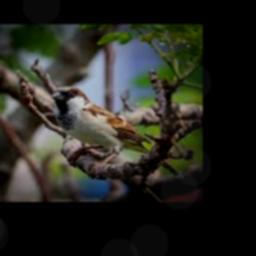Sparrow: (52, 86, 151, 171)
